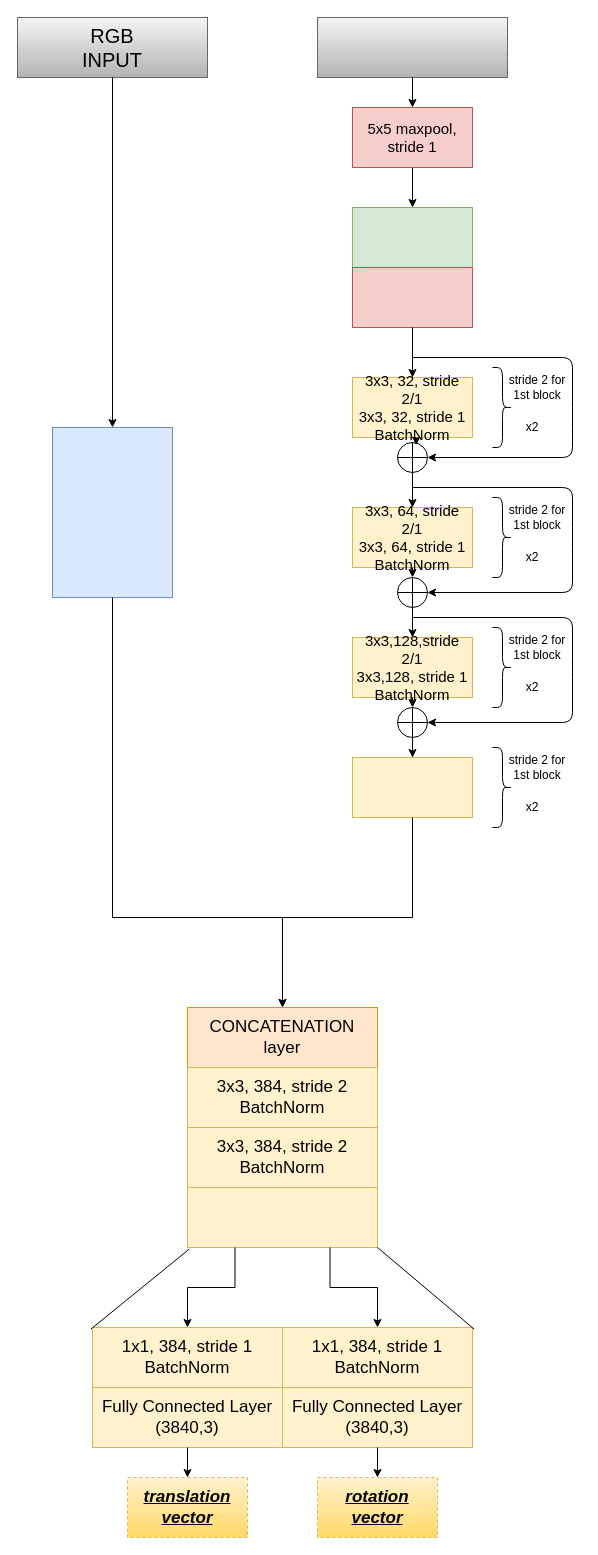
Image size: 598x1555. Some labels were removed from this diagram. The shapes that lost their labels are listed below. From the top down, each one's centre as x and y in pixels, then its label:
point (412, 47): DEPTH INPUT (decalibrated)
point (412, 237): 7x7, 32, stride 2, BatchNorm
point (412, 297): 3x3 maxpool, stride 2
point (112, 512): RESNET-18 (Pretrained)
point (412, 787): 3x3,256,stride 2/1 3x3, 256, stride 1 BatchNorm
point (282, 1217): 1x2, 384, stride 1 BatchNorm
